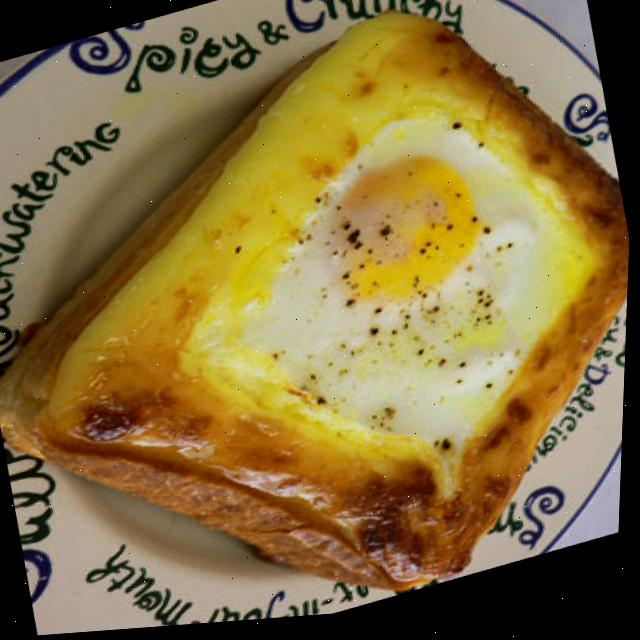鸡蛋料理: (179, 84, 636, 537)
